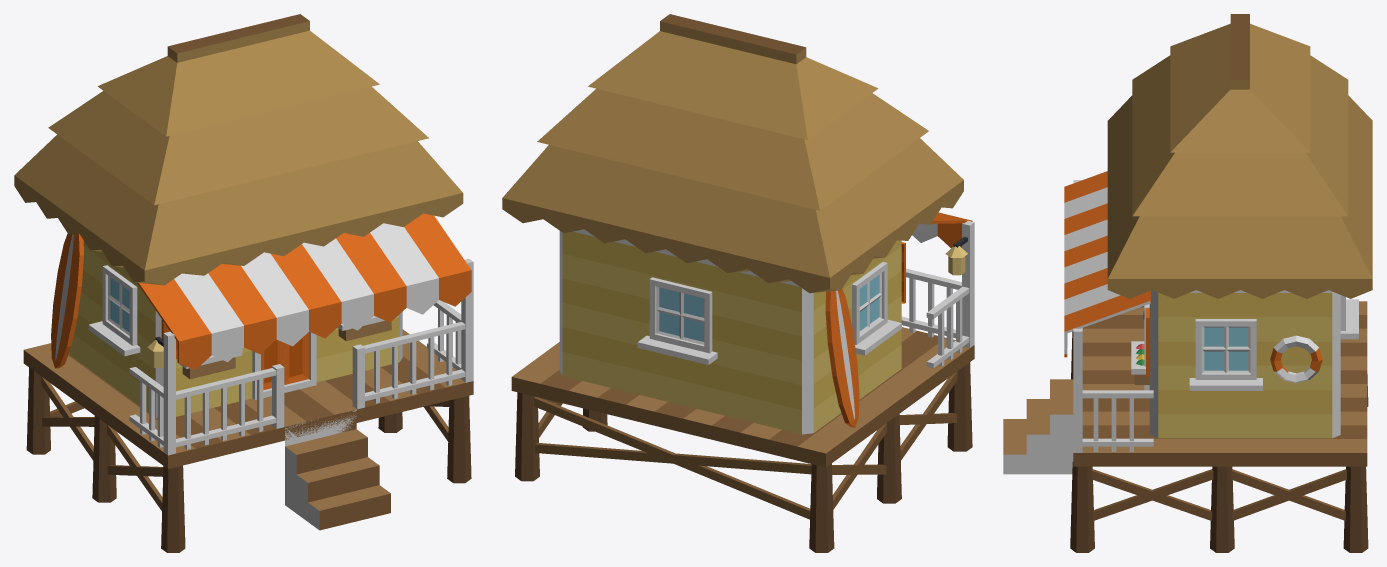
The model's file is beach-house-3.glb.
3 views of the same model, side by side, from view 1: azimuth 30°, elevation 25°; view 2: azimuth 150°, elevation 25°; view 3: azimuth 270°, elevation 25° (orthographic). The views are drawn at different scales.
Parts seen in each view (by area): view 1: BeachHouse3; view 2: BeachHouse3; view 3: BeachHouse3.
Part boxes in pixels (box(x1,y1,x2,y2)): BeachHouse3: box(14, 14, 473, 552); BeachHouse3: box(502, 14, 974, 552); BeachHouse3: box(1003, 14, 1372, 552).
Size of the model in its own units: 4.9 by 6.22 by 4.84.
